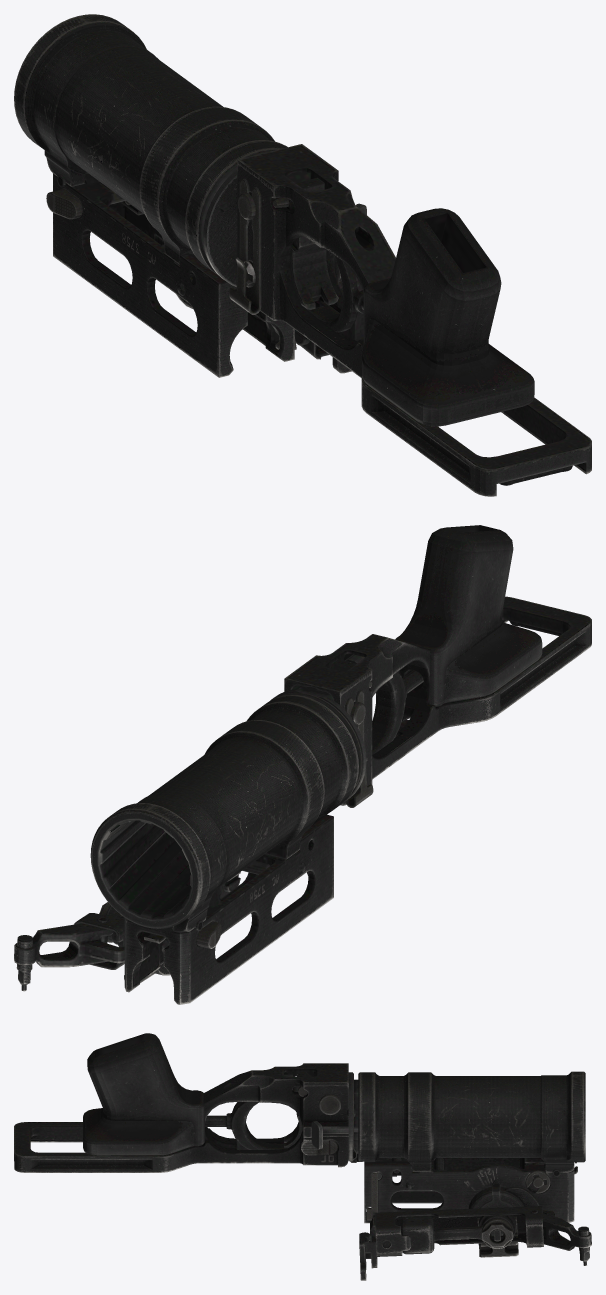
3 renders of one model, top to bottom at view 1: azimuth 30°, elevation 25°; view 2: azimuth 150°, elevation 25°; view 3: azimuth 270°, elevation 25°, orthographic. The views are drawn at different scales.
Parts seen in each view (by area): view 1: TW_62e7e7bbe6da9612f743f1e0_range50_PZ_Import; view 2: TW_62e7e7bbe6da9612f743f1e0_range50_PZ_Import; view 3: TW_62e7e7bbe6da9612f743f1e0_range50_PZ_Import.
Boxes of the visible parts, x1,y1,x2,y2 form: TW_62e7e7bbe6da9612f743f1e0_range50_PZ_Import: [14, 14, 591, 496]; TW_62e7e7bbe6da9612f743f1e0_range50_PZ_Import: [14, 525, 591, 1004]; TW_62e7e7bbe6da9612f743f1e0_range50_PZ_Import: [14, 1033, 591, 1280].
Size of the model in its own units: 0.0529 by 0.187 by 0.0701.
1 material, 1 textured.
